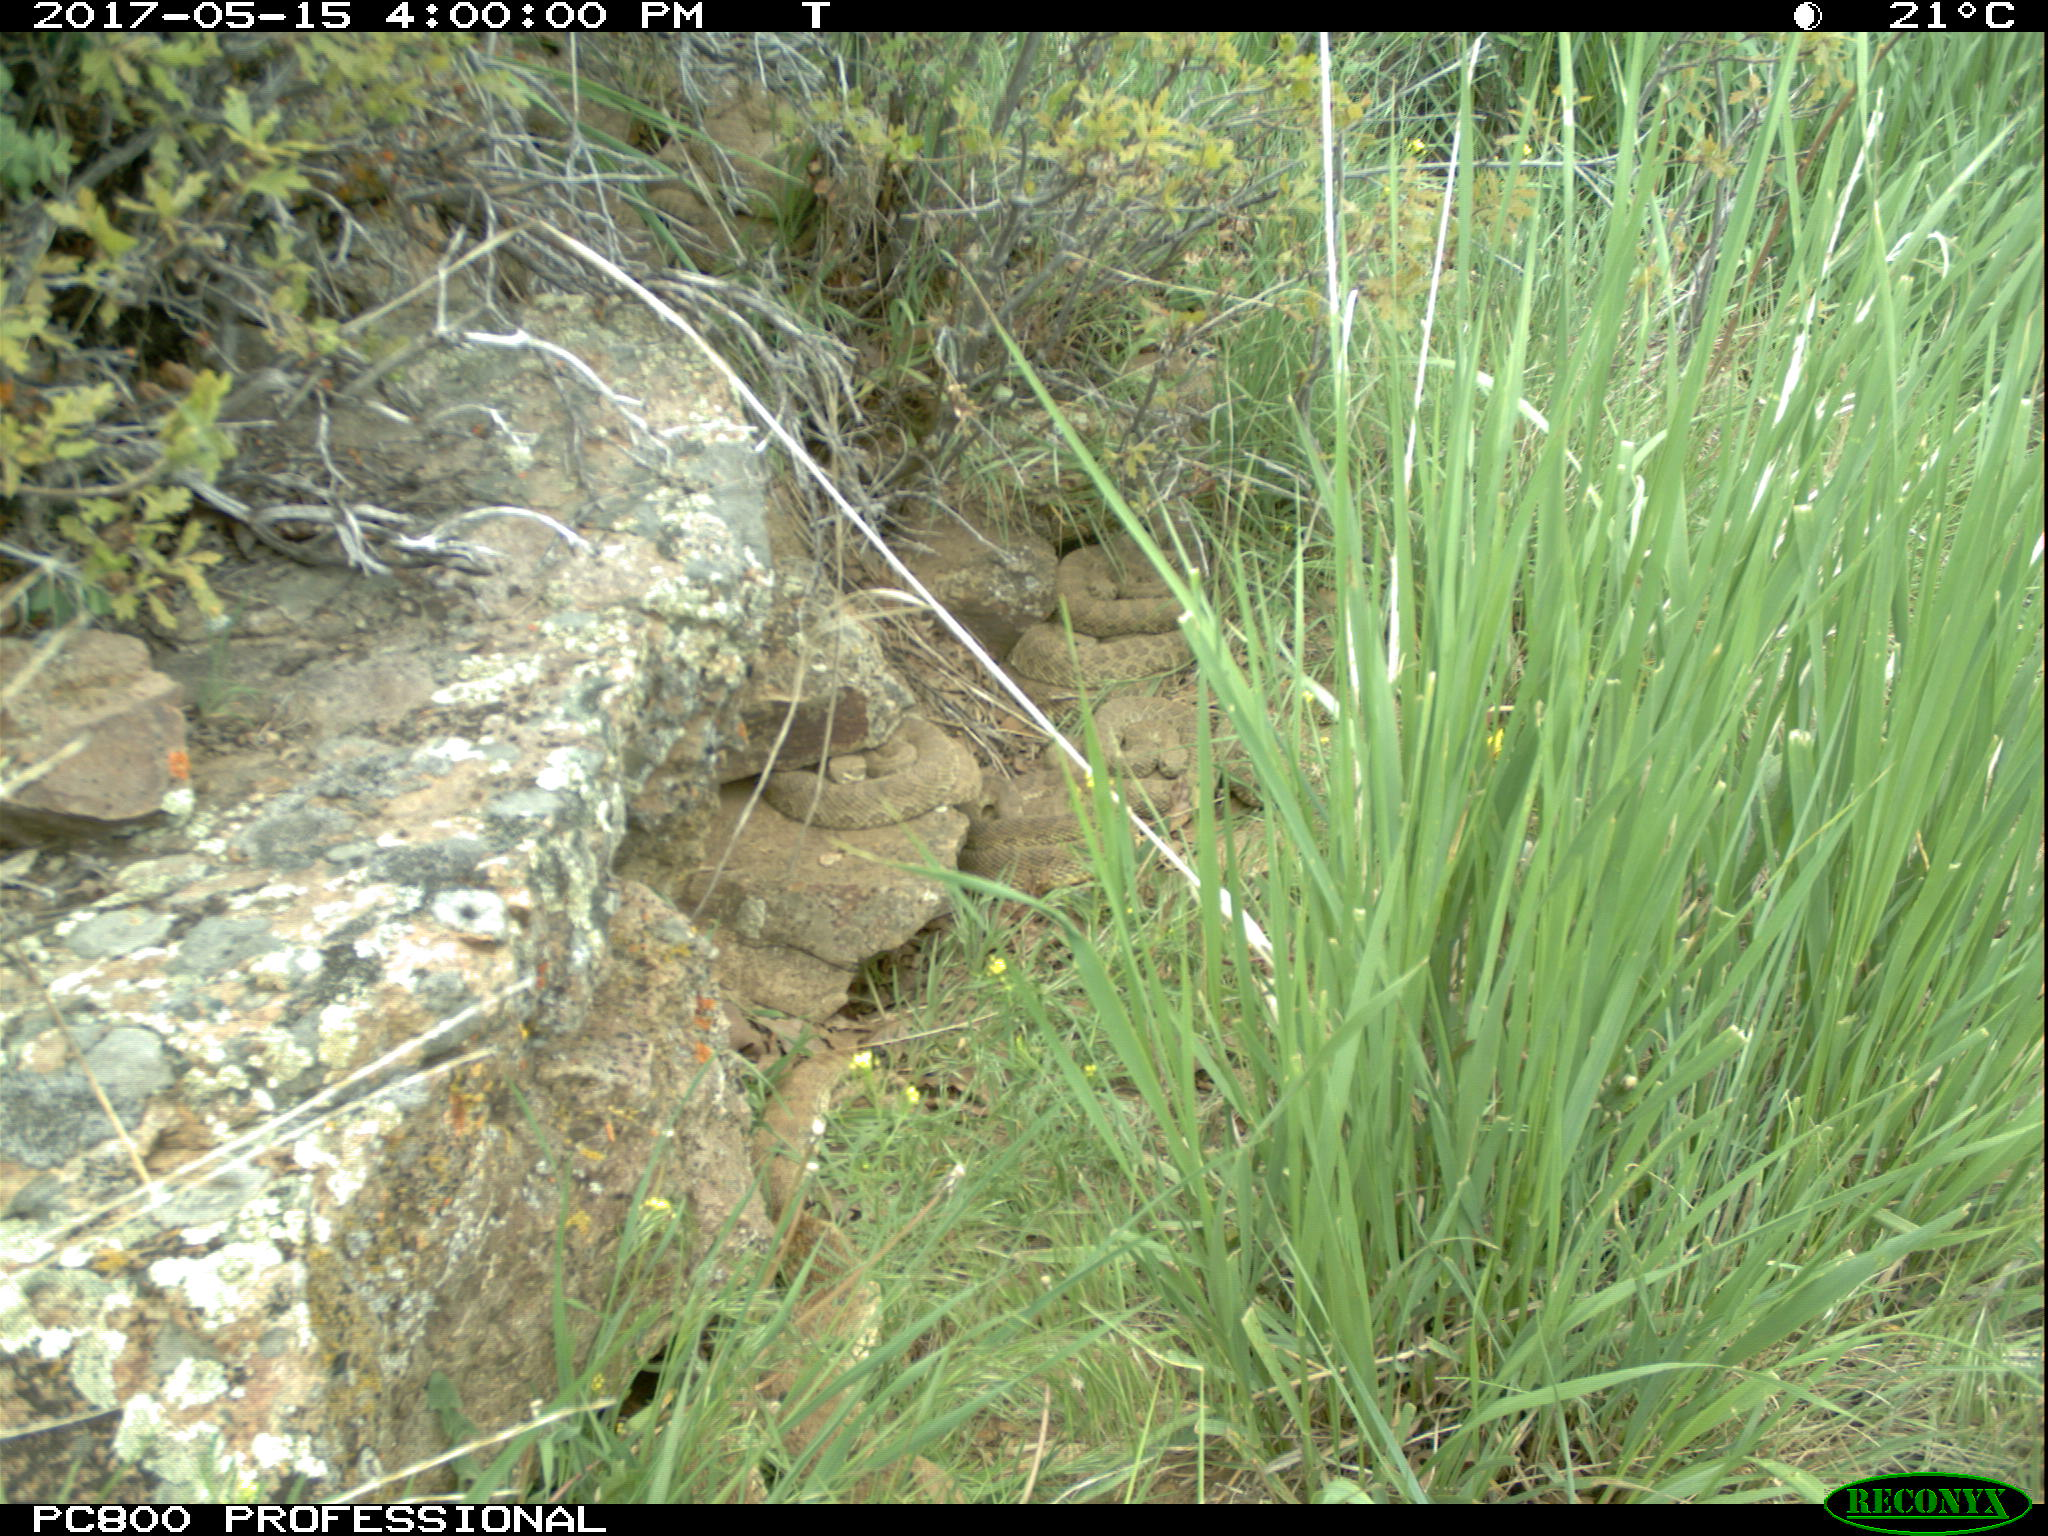snake: (743, 1046, 880, 1444), (753, 716, 985, 828), (684, 74, 822, 223), (961, 762, 1109, 887), (1059, 545, 1214, 631), (1087, 695, 1222, 792), (1006, 623, 1206, 687), (639, 181, 751, 257)
